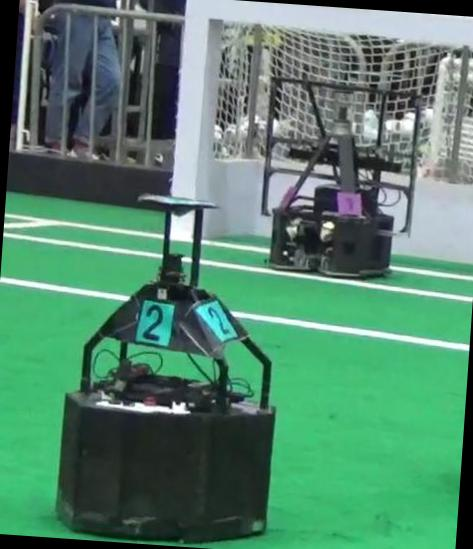goal: (171, 0, 208, 196)
robot: (55, 194, 274, 542), (269, 91, 393, 276)
